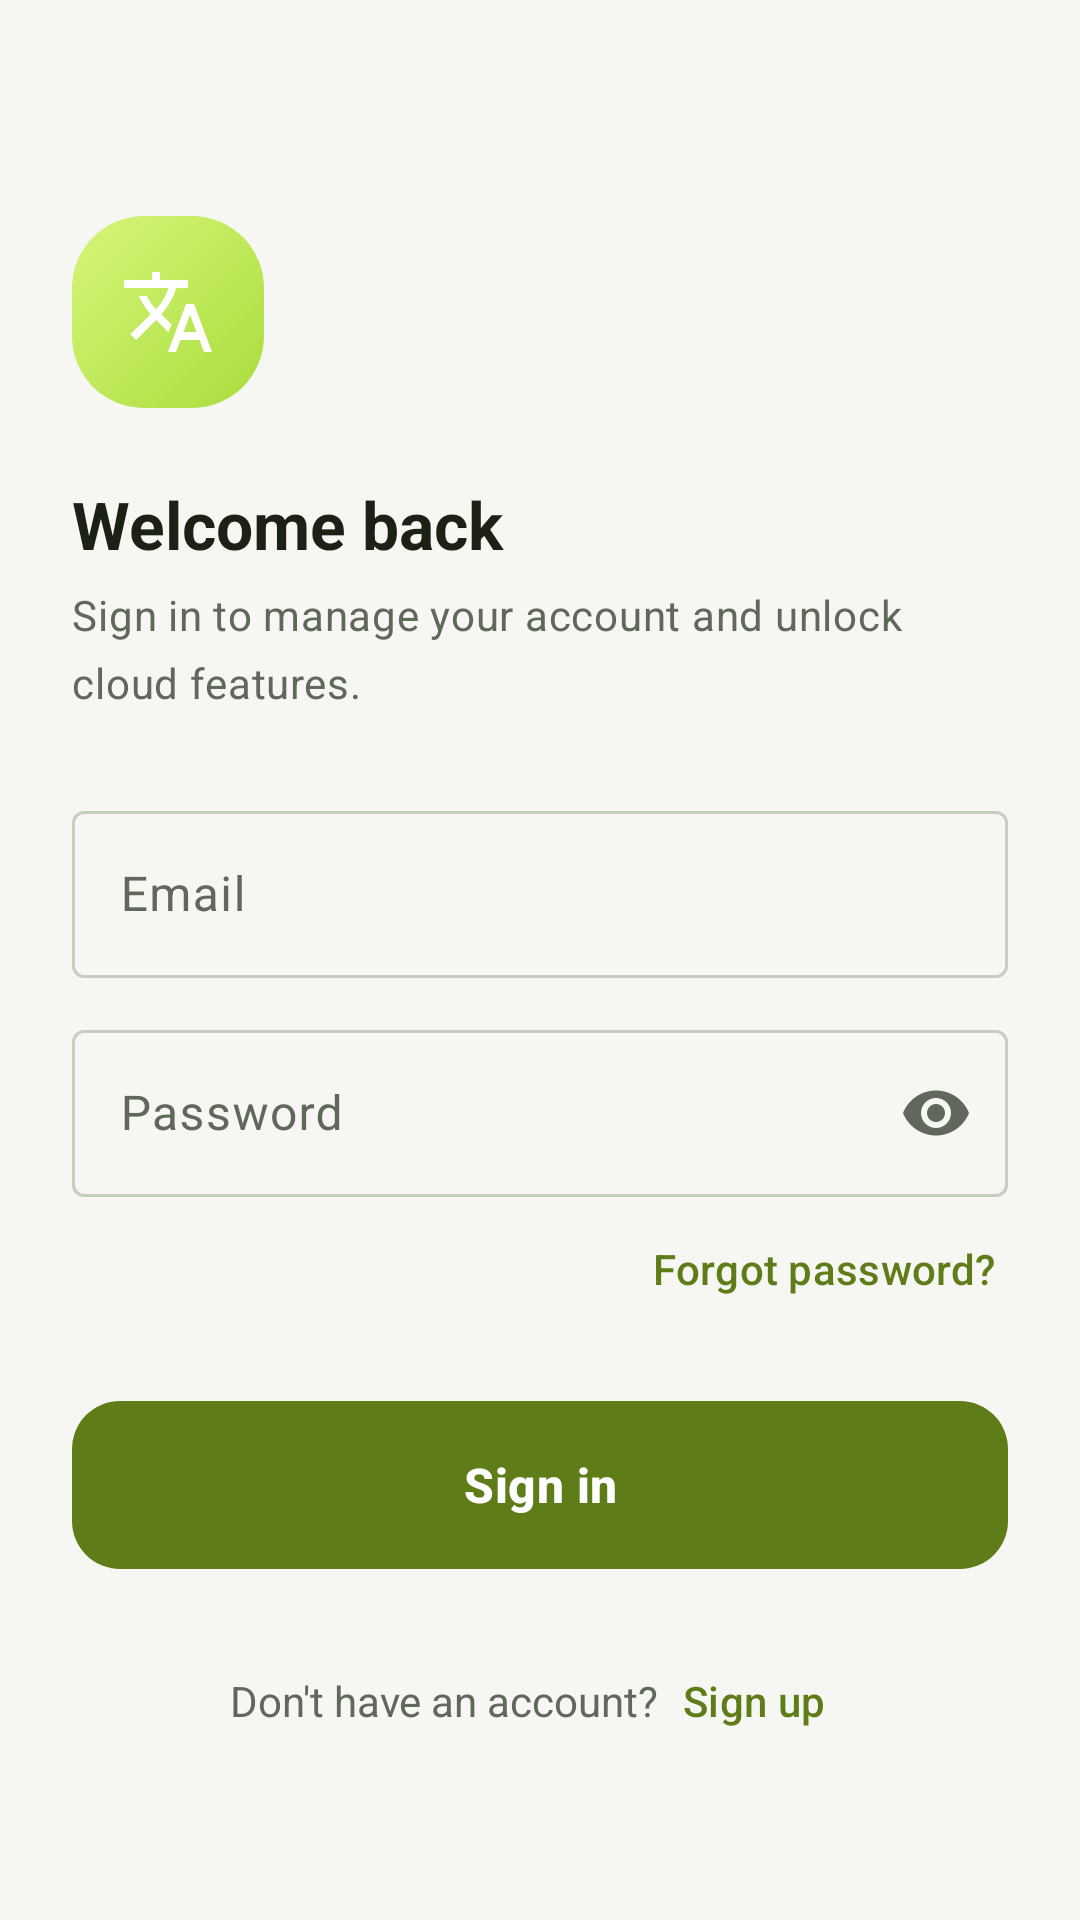

Screen size 1080 × 1920. Icon name, then its center in pixels as [x,y]:
translate: [168,312]
